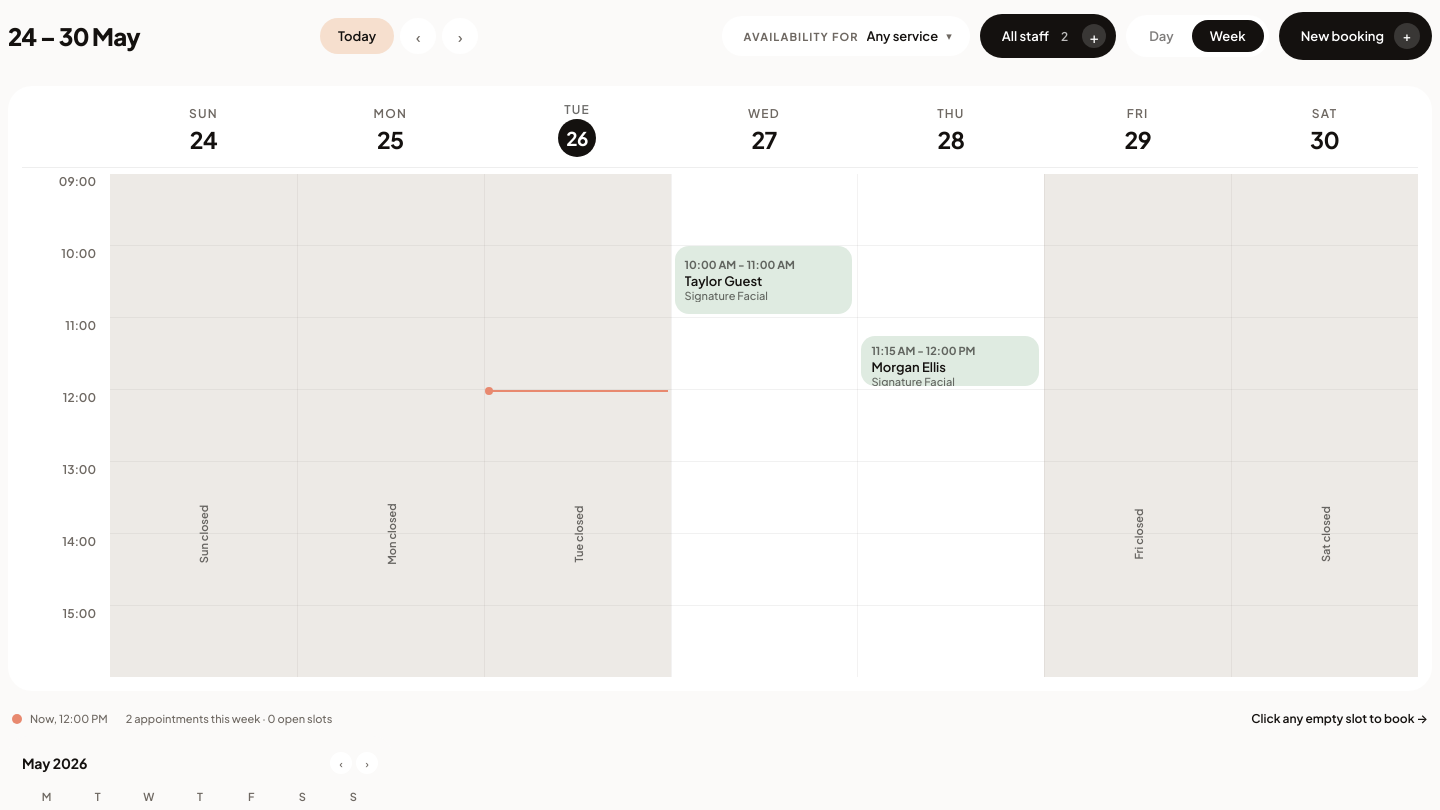
Test: CalendarPage › filters week view by service provider
Expected: the text "24 – 30 May" is shown, [8,21,140,51]
Expected: the button with aria-label "Taylor Guest booked" is shown, [675,246,852,314]
Click the button with aria-label "Staff filter".
click(1048, 36)  # box [980,14,1116,58]
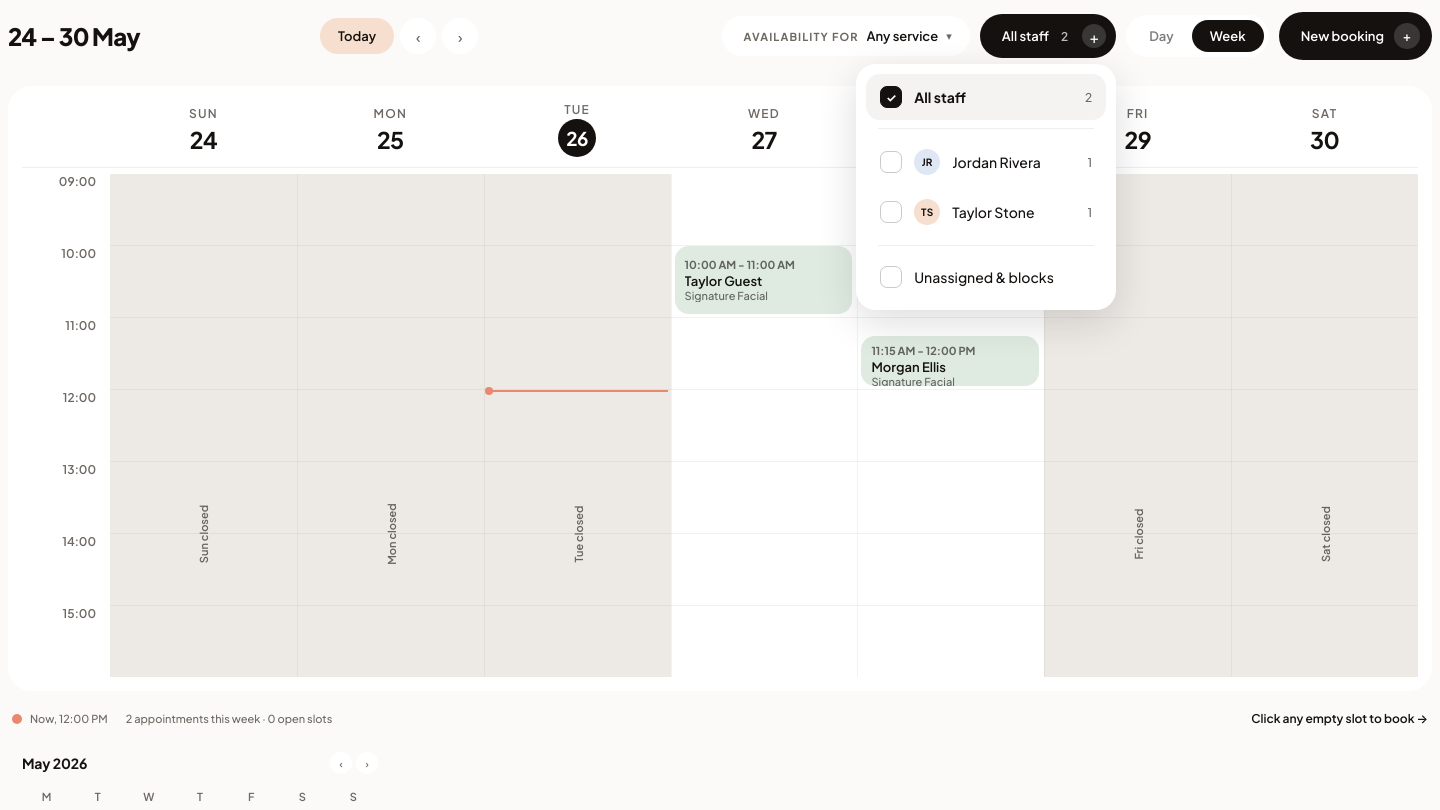
Click the menu item "TS Taylor Stone 1".
click(986, 212)  # box [866,187,1106,237]
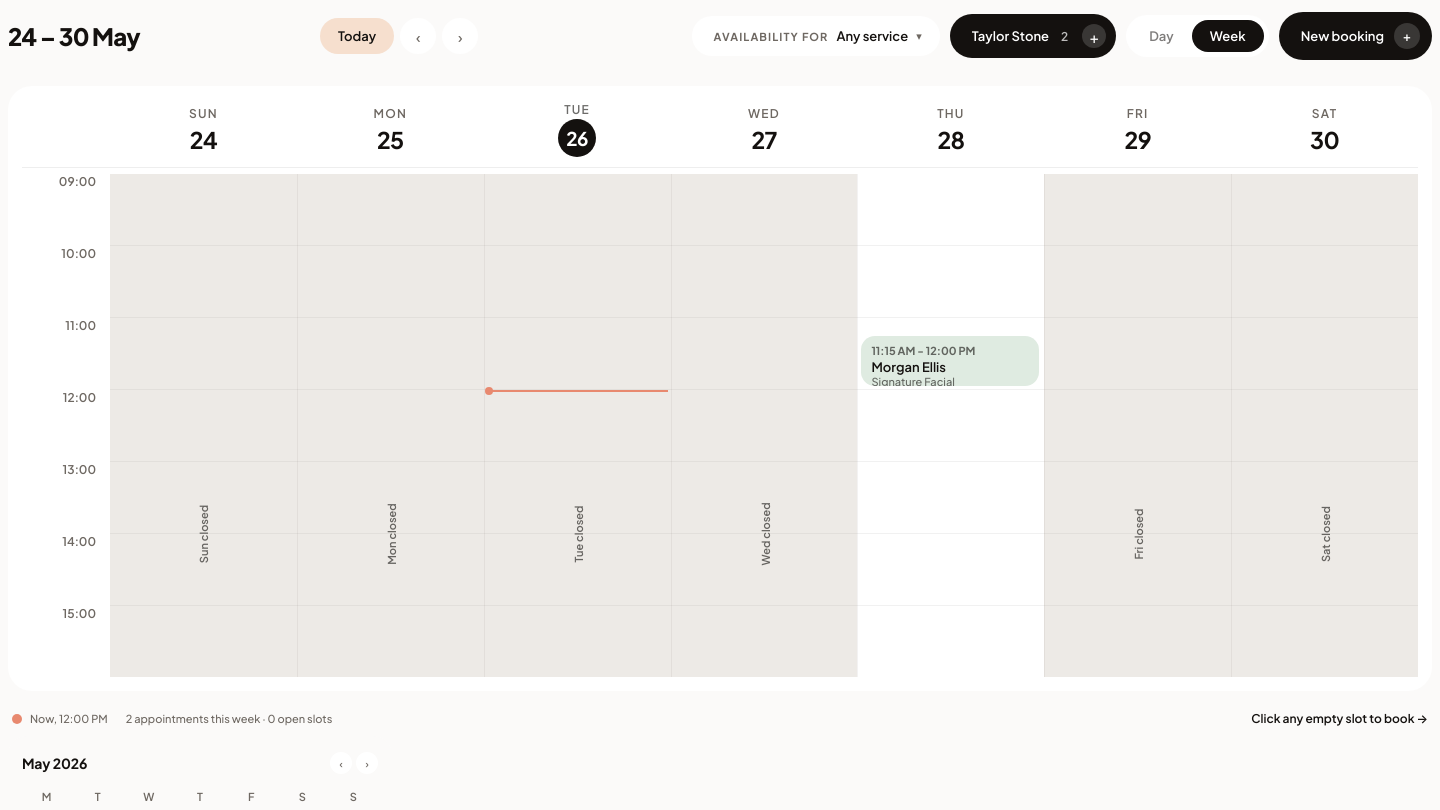
Expected: the button with aria-label "Morgan Ellis booked" is shown, [861,336,1039,386]
Expected: the element with class "cs-col" showing "Sun closed" is shown, [110,174,297,677]
Click the button with aria-label "Staff filter".
click(1033, 36)  # box [950,14,1116,58]
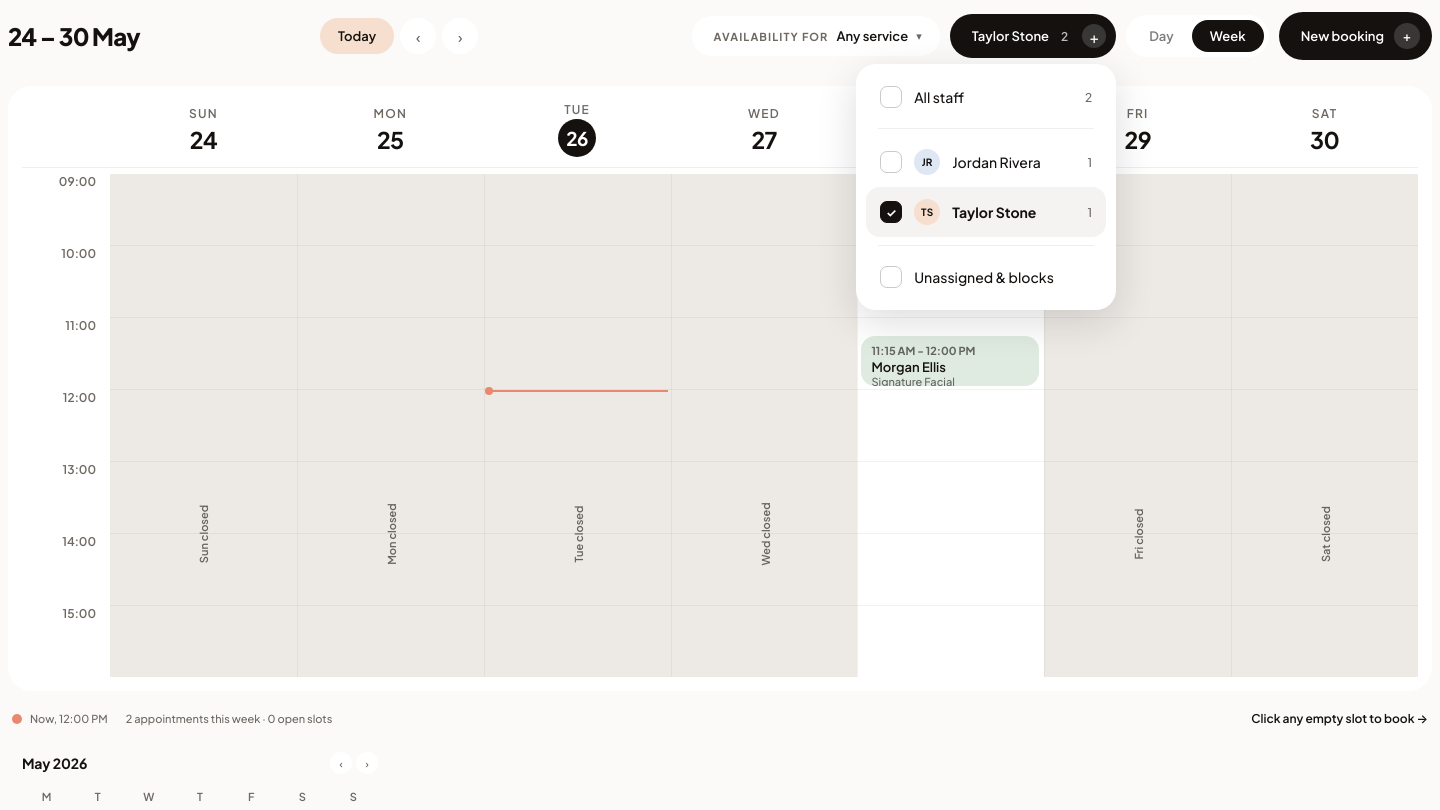
Click the menu item "All staff 2".
click(986, 97)  # box [866,74,1106,120]
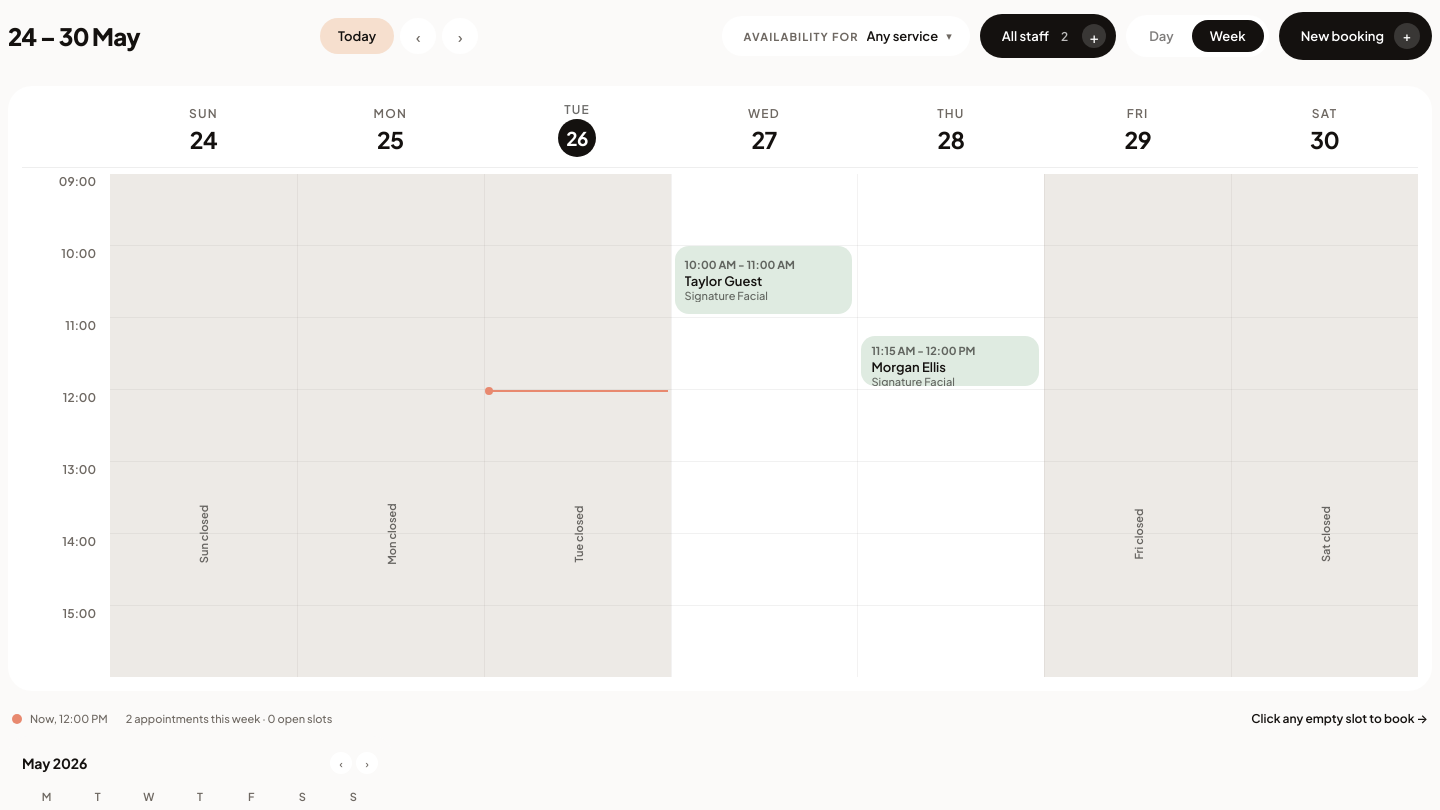
Expected: the button with aria-label "Morgan Ellis booked" is shown, [861,336,1039,386]
Result: the button with aria-label "Taylor Guest booked" is shown at [675,246,852,314]
